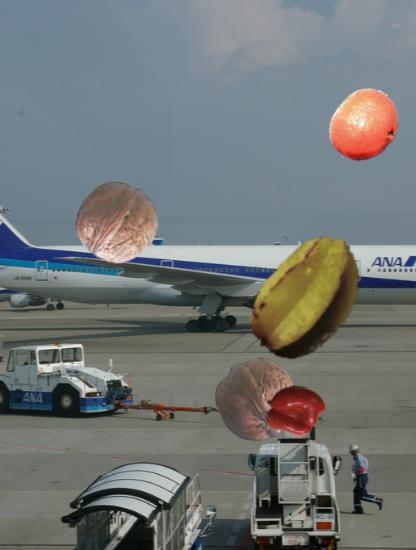Carambula: (241, 232, 375, 366)
Clementine: (325, 87, 403, 165)
Pepper: (266, 382, 323, 439)
Walnut: (214, 357, 300, 443), (76, 181, 160, 265)
